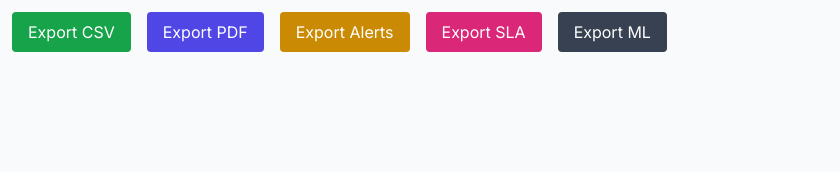
ExportButtons › shows error if Alerts export fails
Click the button "Export Alerts" at (345, 32), box x1=280 y1=12 x2=410 y2=52
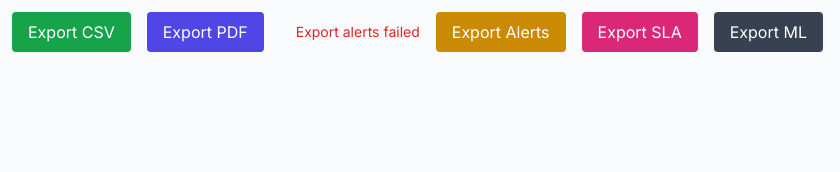
expect the text "Export alerts failed" is shown: met, box x1=296 y1=22 x2=420 y2=42
